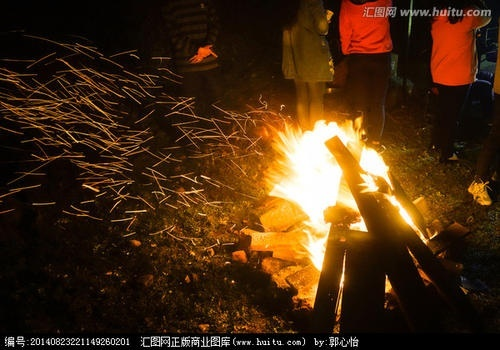fire: (267, 114, 415, 241)
